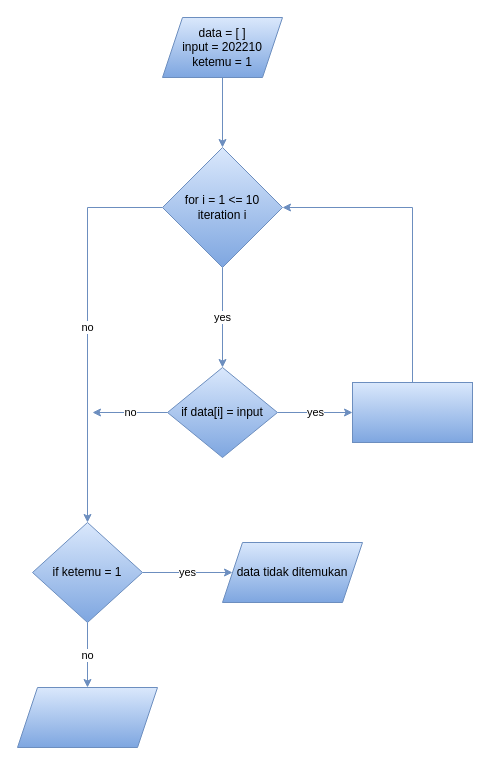
The diagram is 490 pixels wide and 765 high, and some of its shapes have lost their labels. Each missing label, with the centre of its shape:
"ketemu = ketemu + 1" belongs at point 412,412.
"menampilkan data 202210" belongs at point 87,717.
